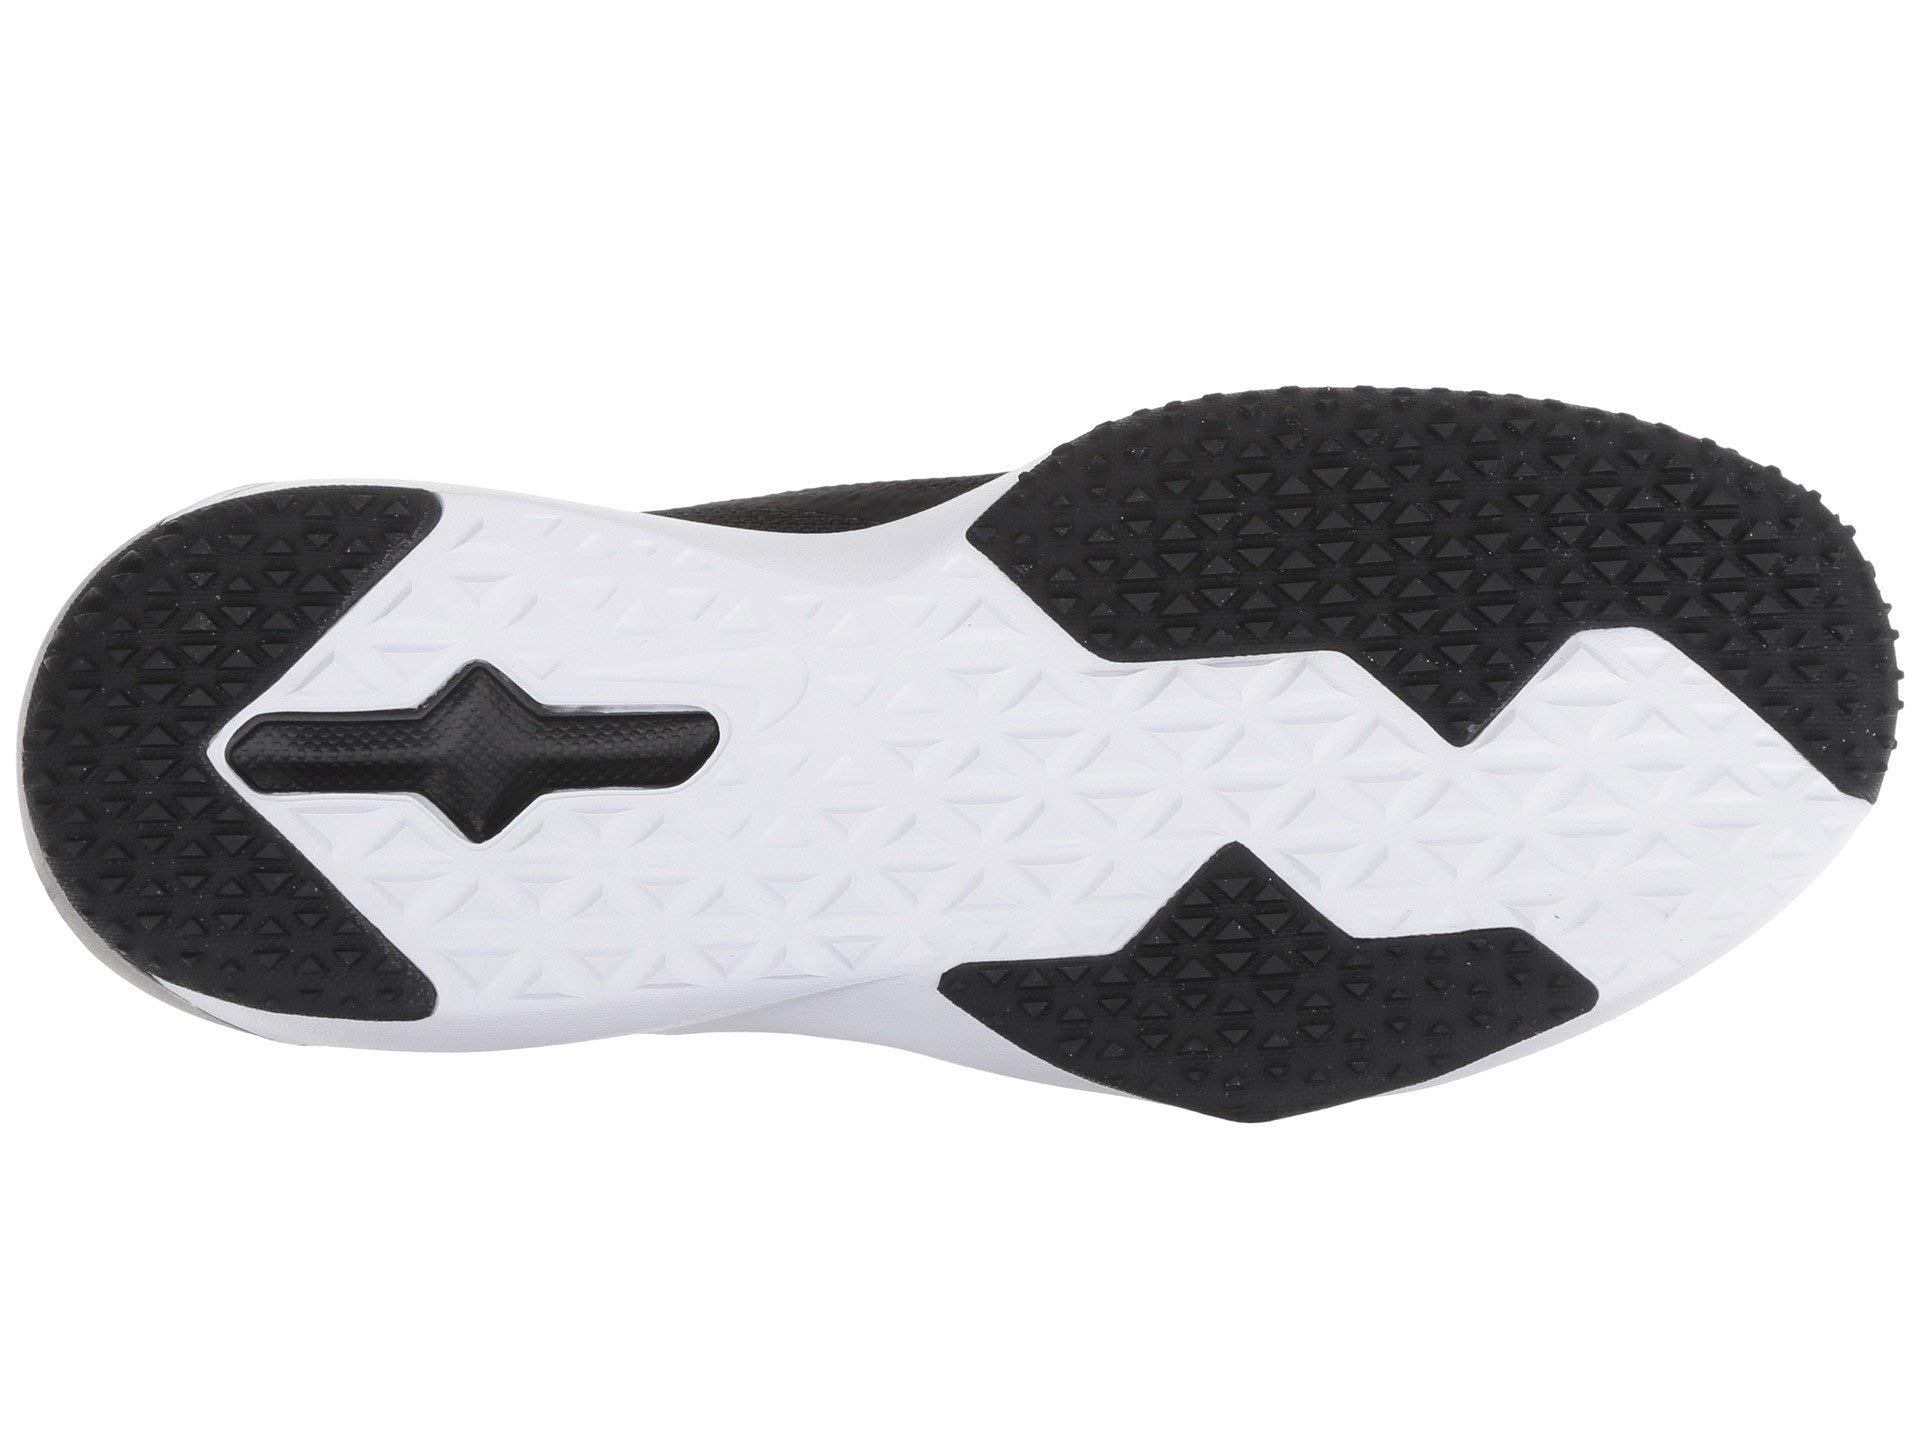triangle: (1240, 430, 1615, 867), (705, 659, 1063, 1003), (1123, 788, 1376, 1063), (63, 672, 274, 905), (393, 511, 605, 667)
